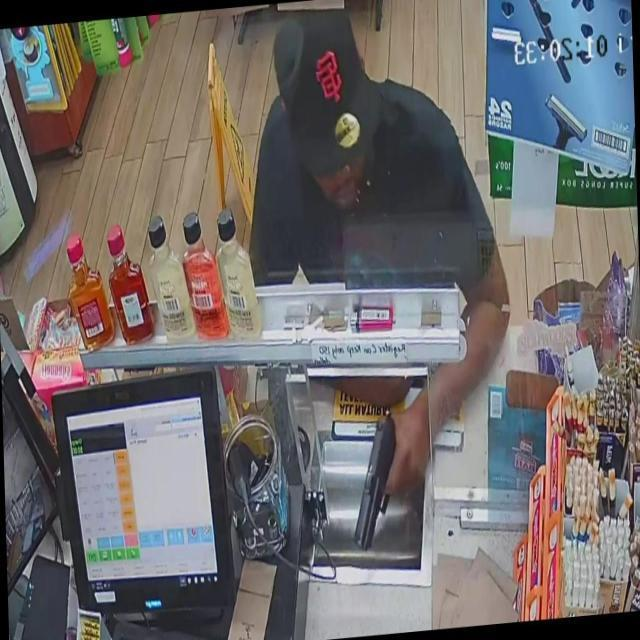pistol: (347, 399, 412, 572)
